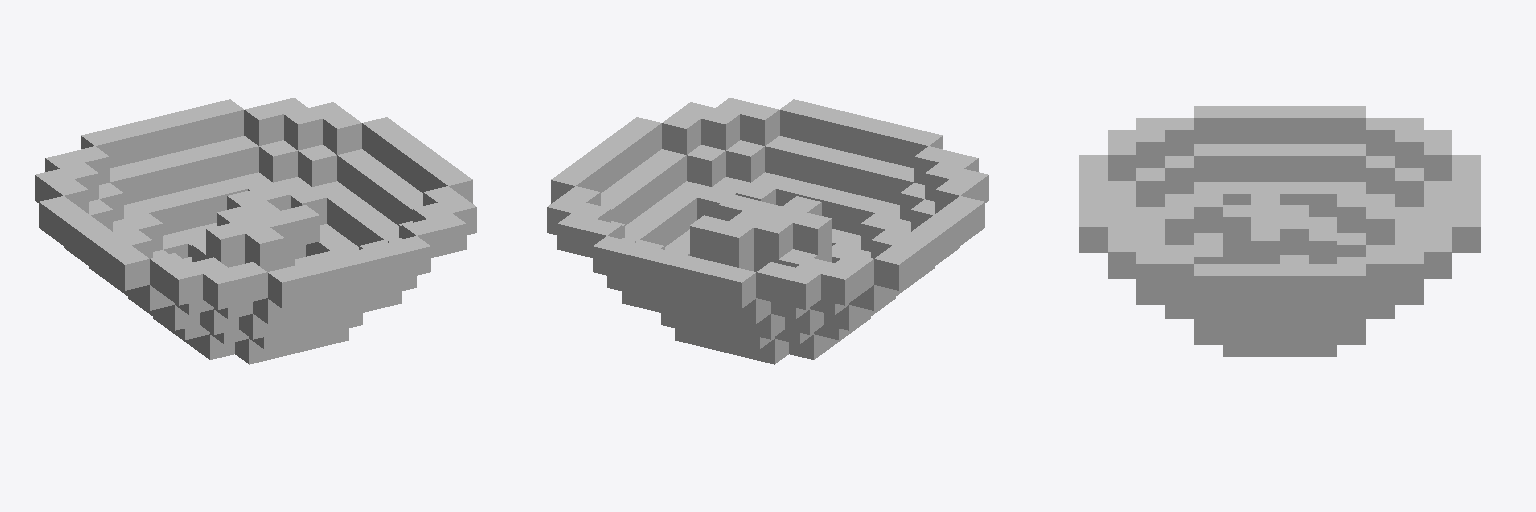
Rendered from Cat bowl.obj.
The picture shows the model from 3 angles: view 1: azimuth 30°, elevation 25°; view 2: azimuth 150°, elevation 25°; view 3: azimuth 270°, elevation 25°; orthographic projection.
Visible parts, largest first — view 1: Cat bowl; view 2: Cat bowl; view 3: Cat bowl.
Boxes of the visible parts, x1=… form: Cat bowl: x1=35, y1=98, x2=476, y2=364; Cat bowl: x1=547, y1=98, x2=988, y2=364; Cat bowl: x1=1079, y1=106, x2=1480, y2=356.
Size of the model in its own units: 14 by 5 by 14.